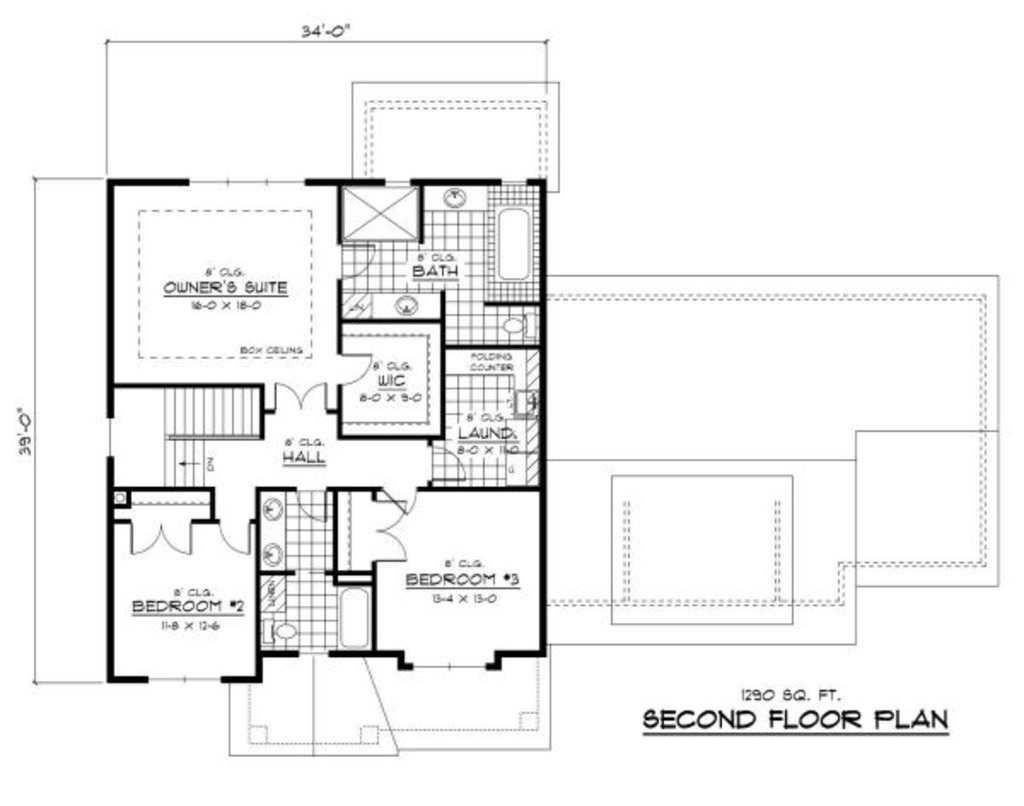door: (369, 497, 408, 562), (123, 519, 194, 553), (266, 382, 333, 414), (211, 516, 253, 557), (337, 349, 373, 388)
large_sink: (261, 615, 296, 647)
small_sink: (368, 288, 441, 323), (261, 489, 289, 570), (418, 182, 489, 212)
stairs: (106, 380, 266, 485)
tub: (490, 188, 540, 300), (338, 585, 375, 653)
windows: (183, 176, 309, 190), (394, 660, 493, 674), (143, 671, 221, 687), (101, 413, 115, 454)
